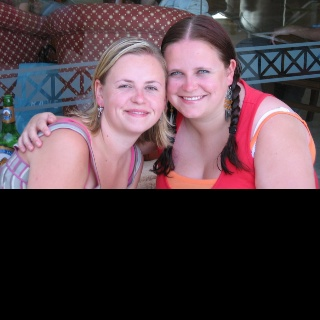without_mask: (162, 40, 227, 118), (103, 54, 165, 131)
